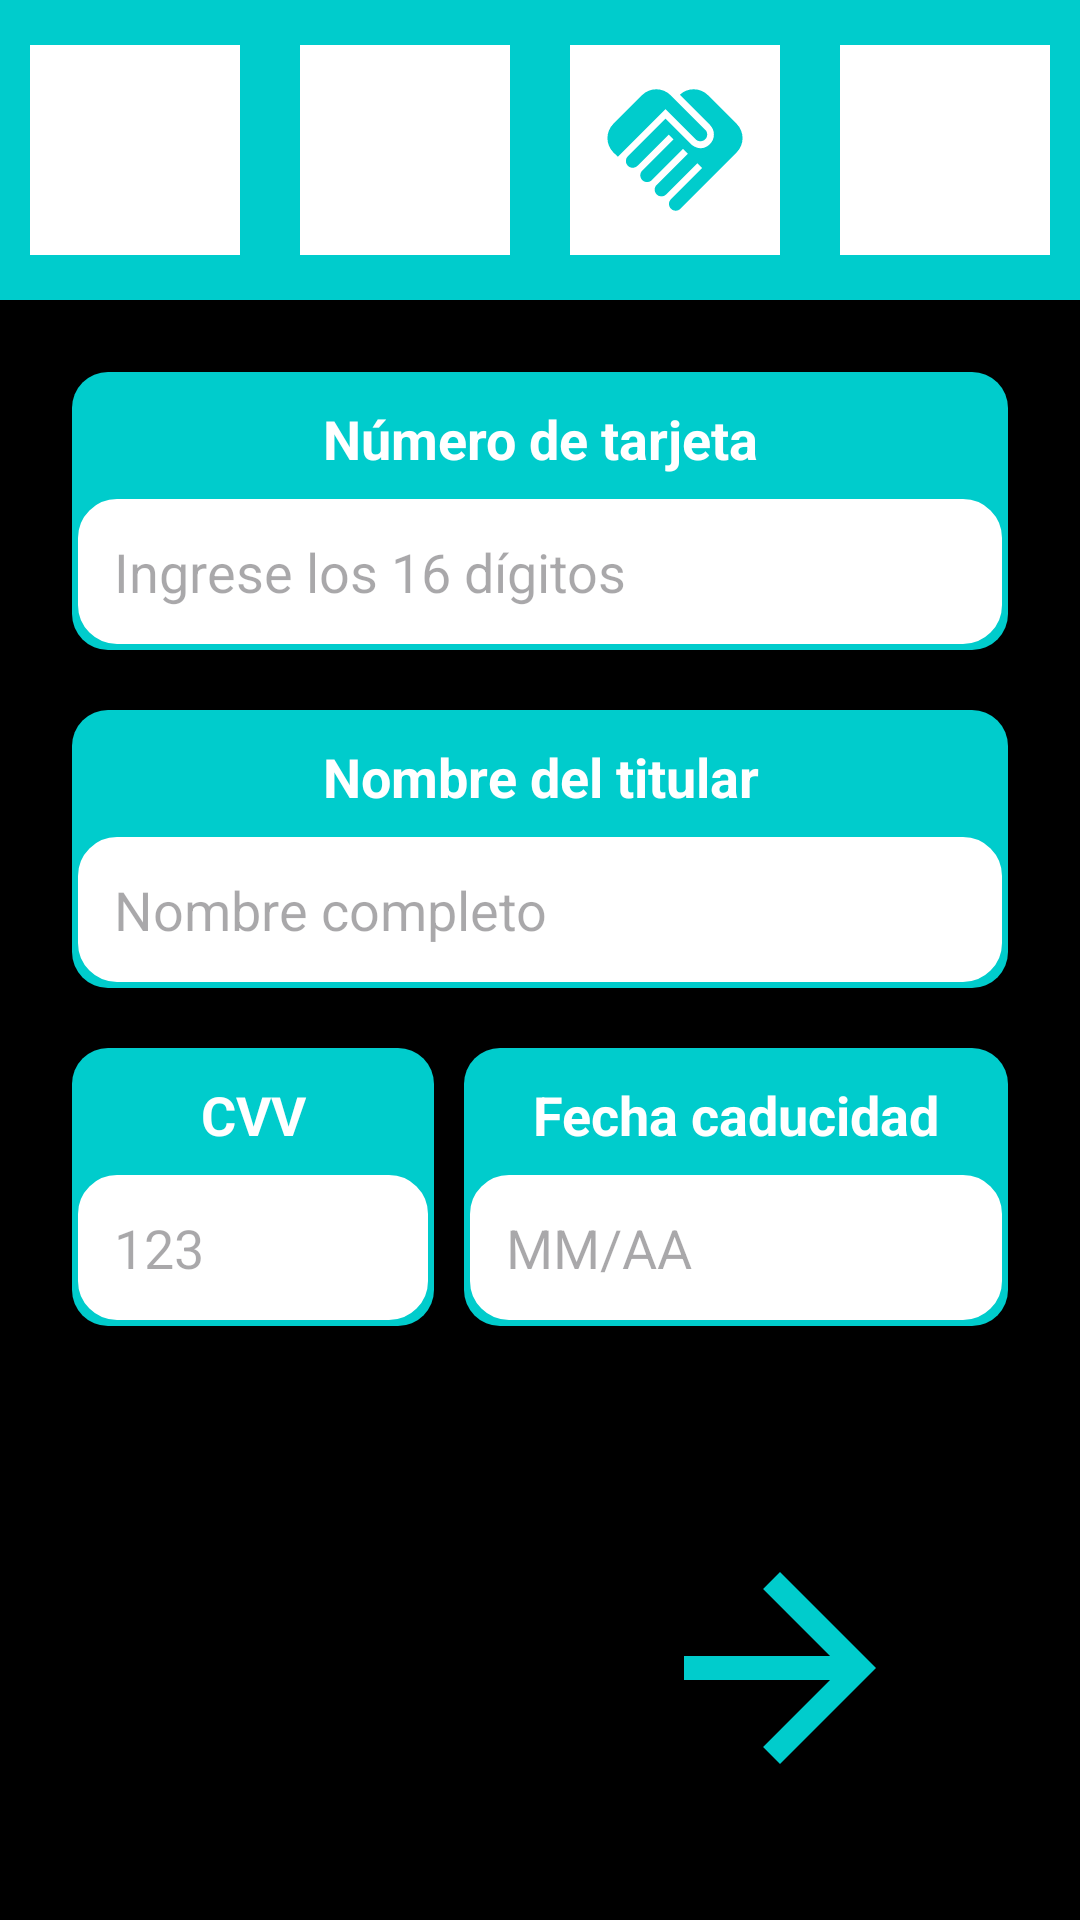

Screen size 1080*1920. Icon name, then its center in pixels as point (x, y):
Confirmar: point (780, 1668)
Entorno compartido: point (675, 150)
